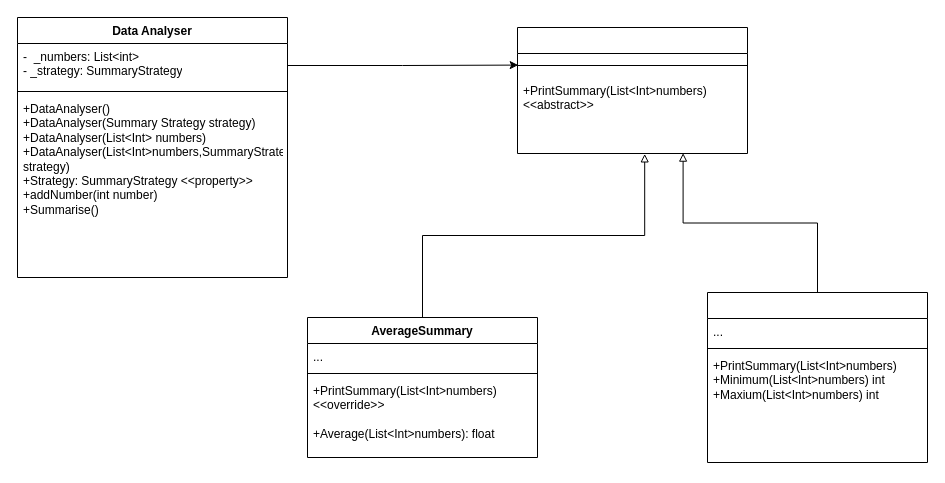
This 945x483 diagram has some shape labels left out. The shapes that lost their labels are listed below. From the top down, each one's box as (x1, y1, x2, y2) in pixels, then its label:
(516, 26, 748, 154): SummaryStrategy
(706, 292, 928, 462): MinMaxSummary
